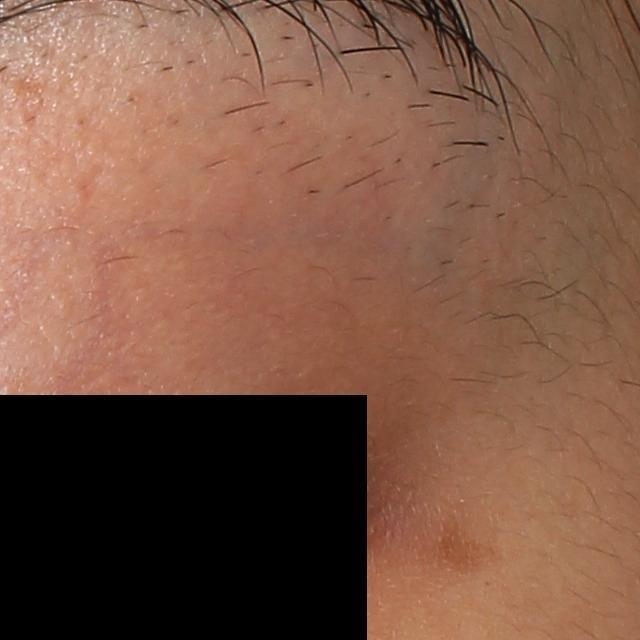melasma: (432, 500, 505, 574)
